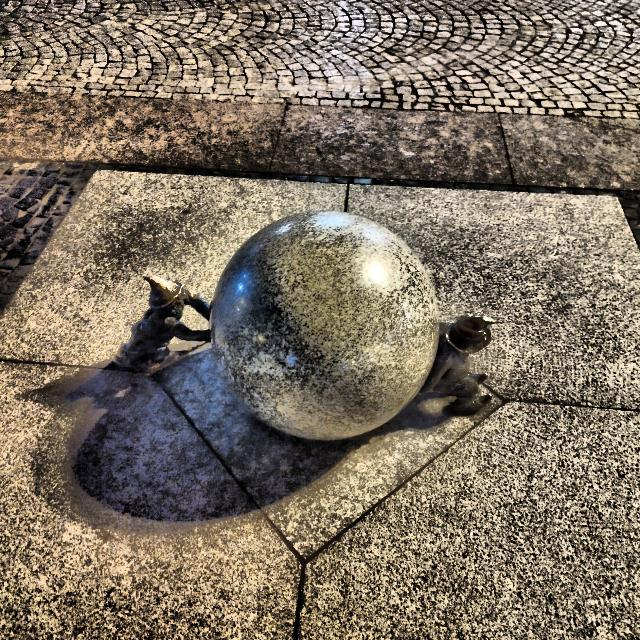Syzyfki: (96, 203, 506, 446)
